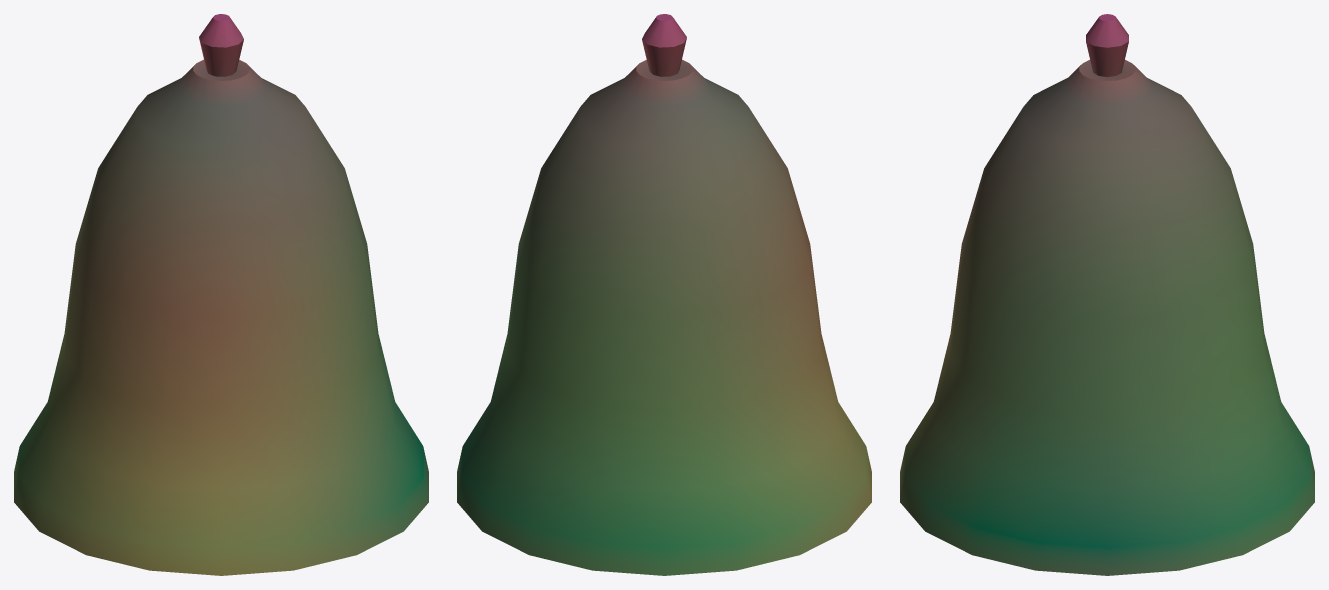
The model's file is bell_great.glb.
3 views of the same model, side by side, from view 1: azimuth 30°, elevation 25°; view 2: azimuth 150°, elevation 25°; view 3: azimuth 270°, elevation 25° (orthographic).
Parts seen in each view (by area): view 1: bell_great, crown; view 2: bell_great, crown; view 3: bell_great, crown.
Part boxes in pixels (x1=…): bell_great: x1=14, y1=59, x2=428, y2=575; crown: x1=199, y1=14, x2=243, y2=76; bell_great: x1=457, y1=59, x2=871, y2=575; crown: x1=642, y1=14, x2=686, y2=76; bell_great: x1=900, y1=60, x2=1314, y2=575; crown: x1=1086, y1=14, x2=1128, y2=76.
Size of the model in its own units: 1.48 by 1.82 by 1.46.
